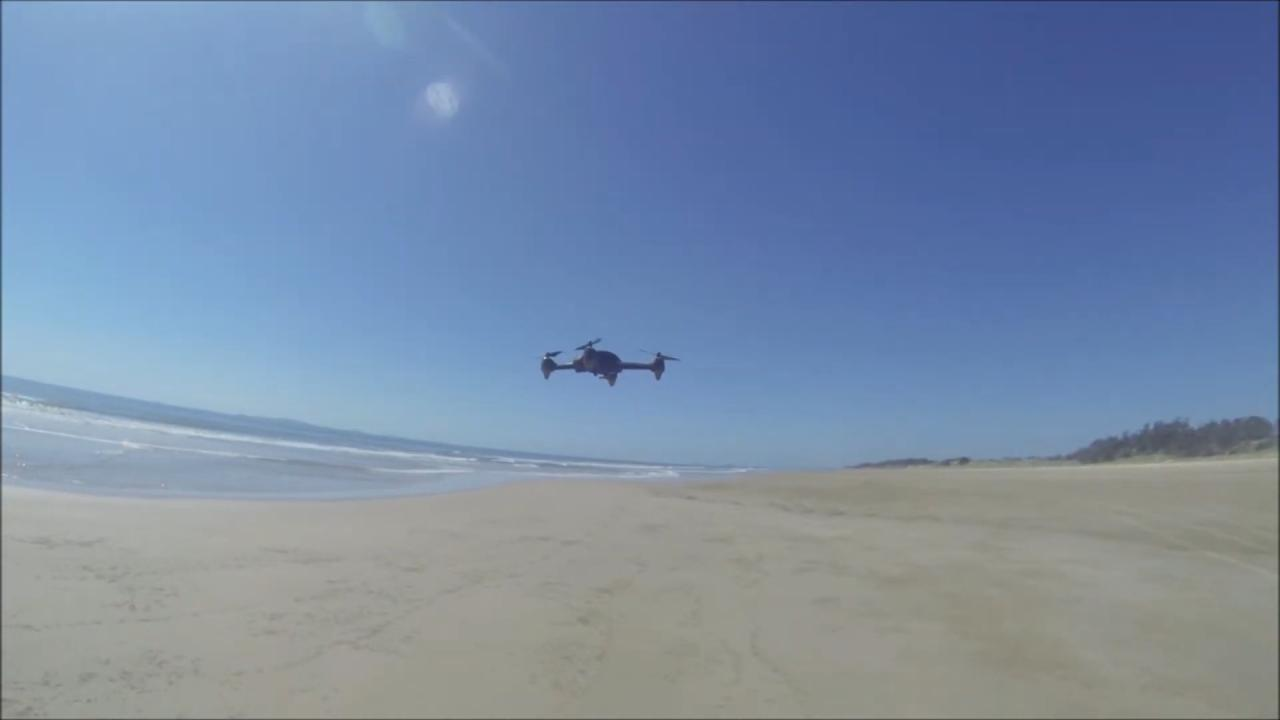Drone: (528, 324, 691, 404)
